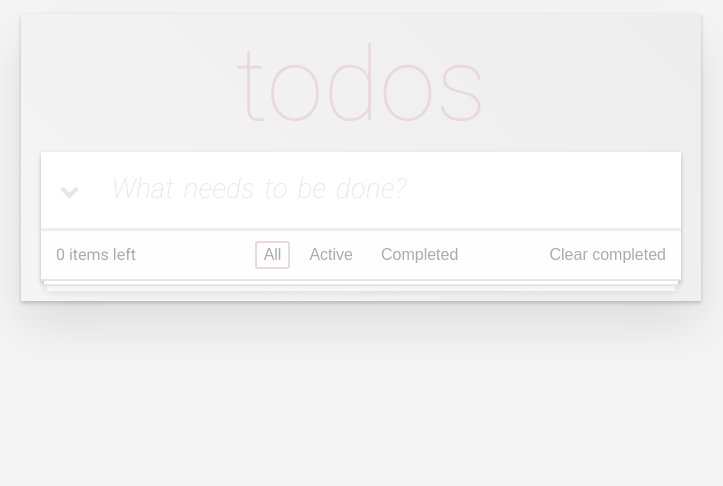
Todos › filters active tasks
In the field with placeholder "What needs to be done?": (361, 190) x1=41 y1=152 x2=681 y2=228, type "Task 1"
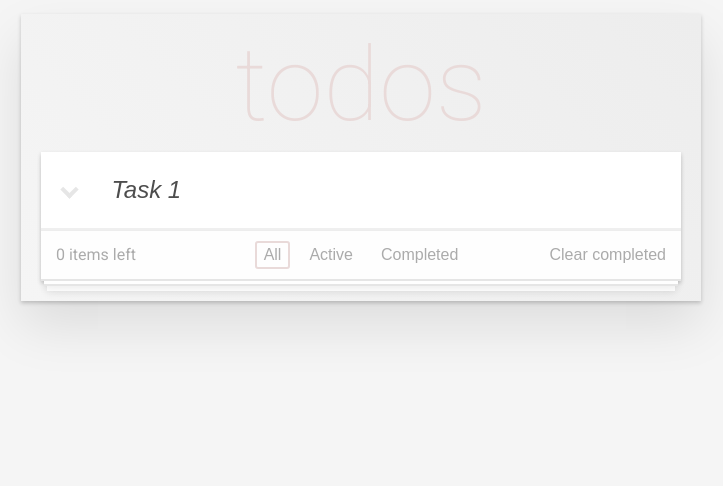
Press Enter in the field with placeholder "What needs to be done?", box x1=41 y1=152 x2=681 y2=228
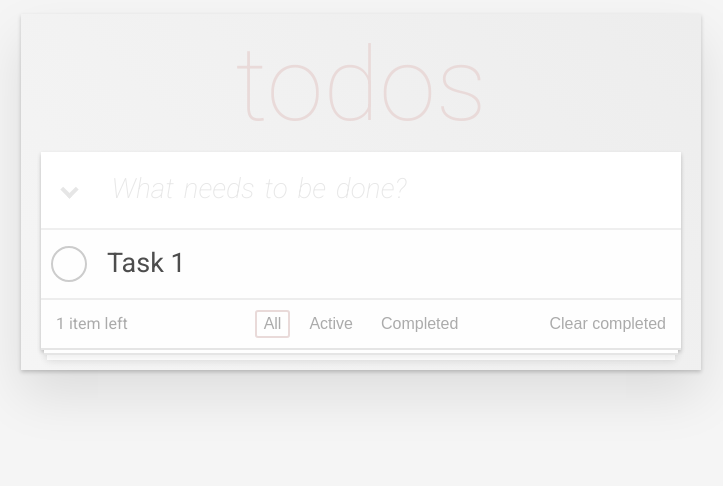
In the field with placeholder "What needs to be done?": (361, 190) x1=41 y1=152 x2=681 y2=228, type "Task 2"
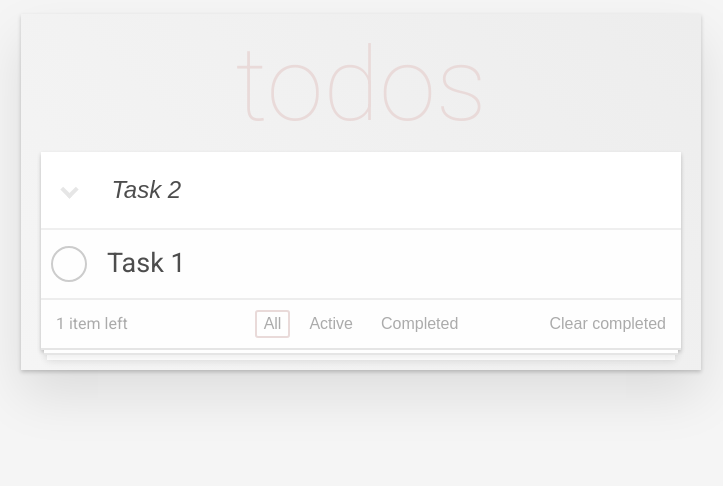
Press Enter in the field with placeholder "What needs to be done?", box x1=41 y1=152 x2=681 y2=228
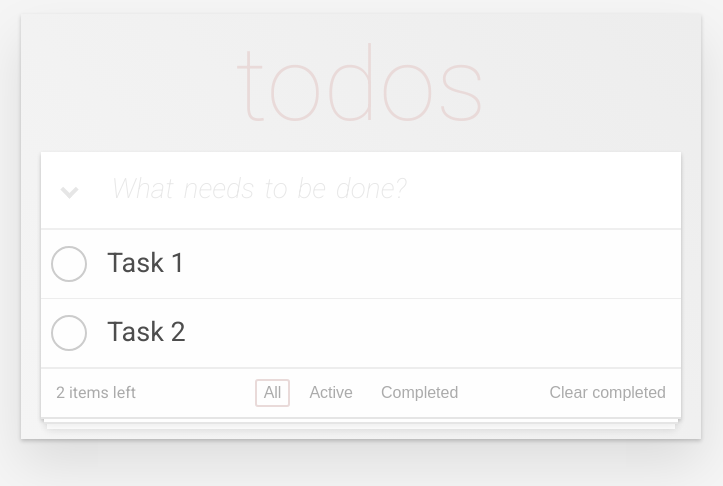
Click the list item "Task 2": (361, 333) x1=41 y1=299 x2=681 y2=368
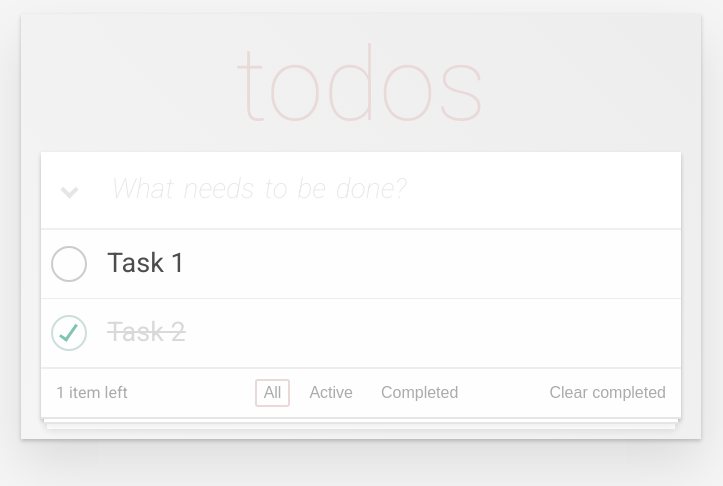
Click the button "Active": (331, 393) x1=300 y1=379 x2=362 y2=407
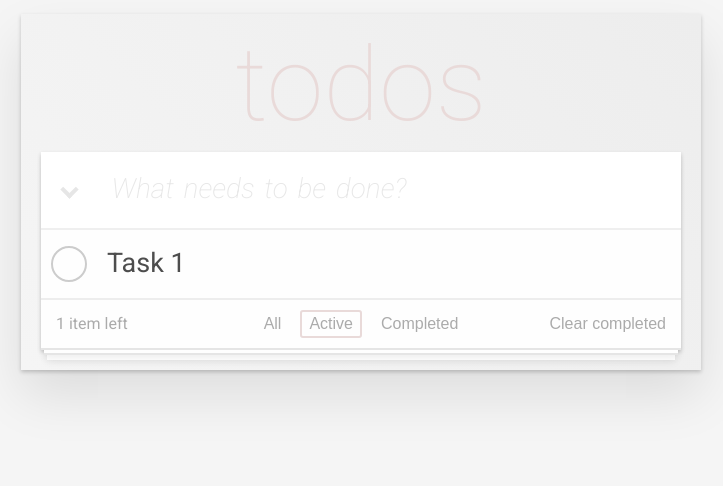
Result: the list item "Task 1" is shown at x1=41 y1=230 x2=681 y2=299
Result: the list item "Task 2" is gone
